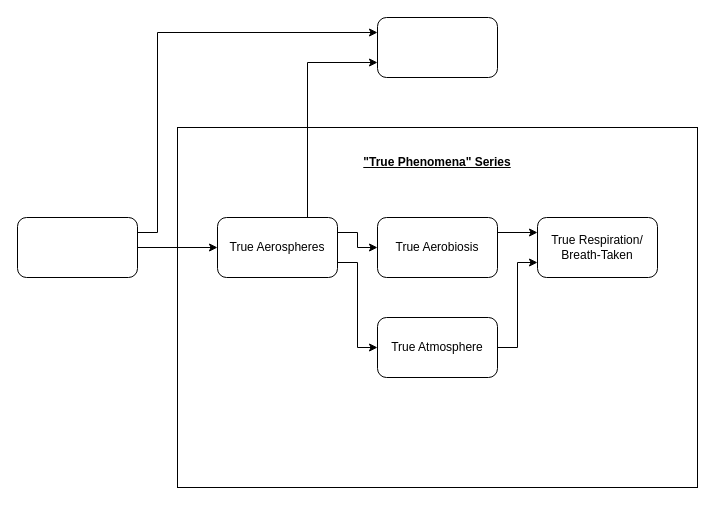
Image size: 715x505. Some labels were removed from this diagram. Here are the shapes that lost their labels. From the top down, the centre of each, then its label:
At point 437,47: "TiberiumRim".
At point 77,247: "TeleCore".
